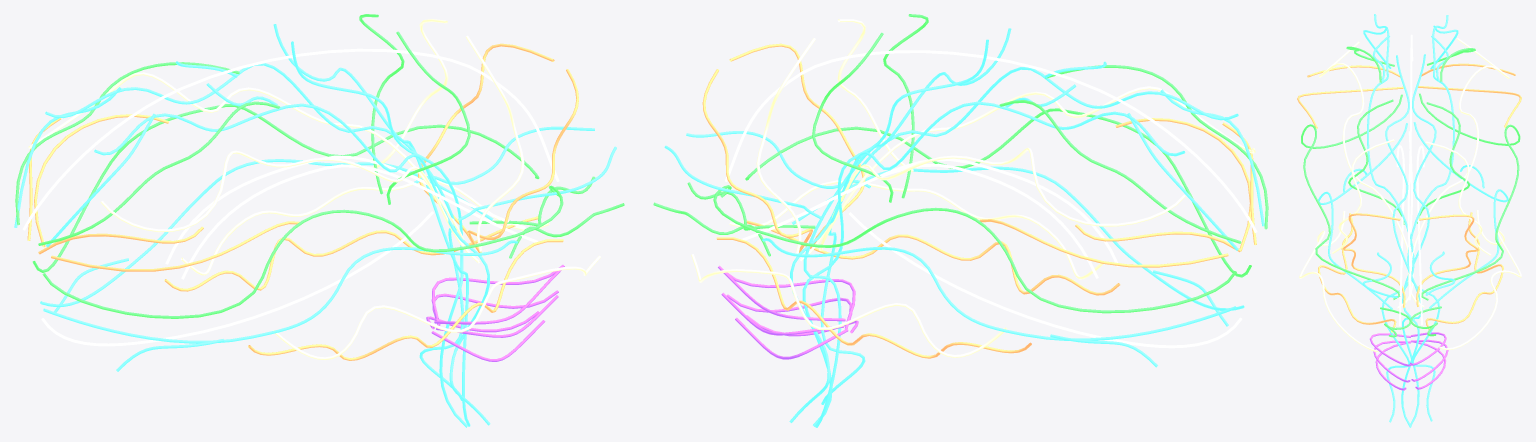
The model's file is neuronet (BSDF).gltf.
The picture shows the model from 3 angles, left to right: view 1: azimuth 30°, elevation 25°; view 2: azimuth 150°, elevation 25°; view 3: azimuth 270°, elevation 25°; orthographic projection. The views are drawn at different scales.
Parts seen in each view (by area): view 1: BezierCurve.045, BezierCurve.023, BezierCurve.025, BezierCurve.008, BezierCurve.007, BezierCurve.029, BezierCurve.030, BezierCurve.027, BezierCurve.024, BezierCurve.011, BezierCurve.006, BezierCurve.031 (+21 smaller); view 2: BezierCurve.045, BezierCurve.025, BezierCurve.007, BezierCurve.008, BezierCurve.023, BezierCurve.015, BezierCurve.027, BezierCurve.024, BezierCurve.030, BezierCurve.011, BezierCurve.006, BezierCurve.001 (+20 smaller); view 3: BezierCurve.025, BezierCurve.008, BezierCurve.023, BezierCurve.027, BezierCurve.007, BezierCurve.011, BezierCurve.024, BezierCurve.030, BezierCurve.045, BezierCurve.015, BezierCurve.029, BezierCurve.001 (+18 smaller).
Part boxes in pixels (x1,y1,x2,y2): BezierCurve.045: [22, 48, 559, 230]; BezierCurve.023: [42, 185, 563, 318]; BezierCurve.025: [94, 103, 490, 425]; BezierCurve.008: [45, 63, 464, 400]; BezierCurve.007: [32, 104, 539, 272]; BezierCurve.029: [43, 240, 517, 343]; BezierCurve.030: [100, 150, 480, 263]; BezierCurve.027: [291, 41, 467, 427]; BezierCurve.024: [28, 72, 465, 246]; BezierCurve.011: [273, 24, 470, 426]; BezierCurve.006: [41, 211, 433, 346]; BezierCurve.031: [273, 255, 600, 360]; BezierCurve.045: [725, 50, 1257, 232]; BezierCurve.025: [820, 67, 1238, 404]; BezierCurve.007: [713, 185, 1236, 313]; BezierCurve.008: [789, 101, 1185, 422]; BezierCurve.023: [745, 108, 1251, 277]; BezierCurve.015: [762, 238, 1236, 340]; BezierCurve.027: [803, 28, 1011, 427]; BezierCurve.024: [800, 147, 1185, 261]; BezierCurve.030: [819, 86, 1255, 250]; BezierCurve.011: [802, 39, 988, 426]; BezierCurve.006: [849, 212, 1242, 348]; BezierCurve.001: [691, 254, 1007, 357]; BezierCurve.025: [1367, 14, 1414, 422]; BezierCurve.008: [1407, 15, 1454, 421]; BezierCurve.023: [1301, 94, 1402, 299]; BezierCurve.027: [1385, 55, 1422, 425]; BezierCurve.007: [1419, 93, 1520, 300]; BezierCurve.011: [1401, 54, 1436, 427]; BezierCurve.024: [1408, 38, 1509, 307]; BezierCurve.030: [1319, 41, 1413, 308]; BezierCurve.045: [1407, 34, 1413, 300]; BezierCurve.015: [1413, 122, 1508, 308]; BezierCurve.029: [1318, 123, 1407, 309]; BezierCurve.001: [1439, 210, 1521, 350].
Bounding box in the file's own units: 9.27 × 6.62 × 4.35.
